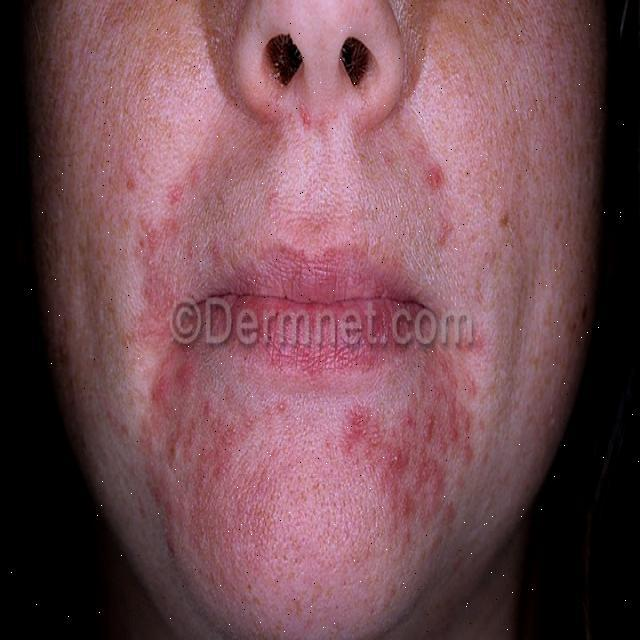images: (10, 0, 637, 639)
